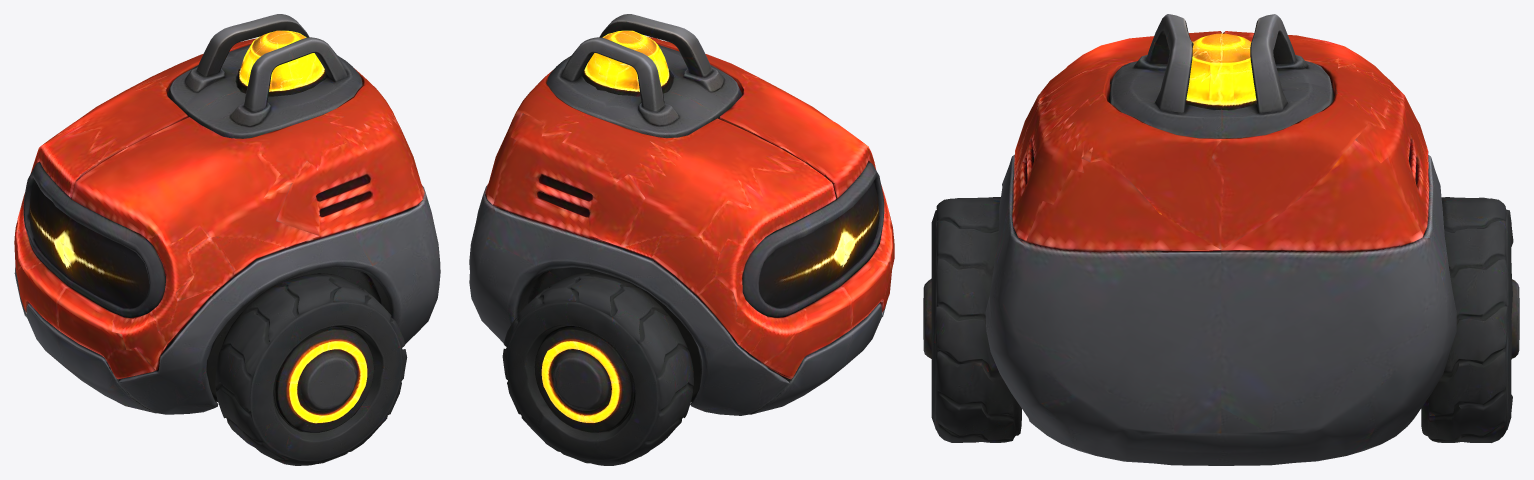
File: devriye.glb
3 renders of one model, left to right at view 1: azimuth 30°, elevation 25°; view 2: azimuth 150°, elevation 25°; view 3: azimuth 270°, elevation 25°, orthographic. The views are drawn at different scales.
Parts seen in each view (by area): view 1: devriye; view 2: devriye; view 3: devriye.
Part boxes in pixels (x1=…): devriye: x1=14, y1=14, x2=440, y2=465; devriye: x1=469, y1=14, x2=894, y2=465; devriye: x1=923, y1=14, x2=1519, y2=465.
Size of the model in its own units: 0.7686 by 0.7832 by 0.9556.
1 material, 1 textured.
